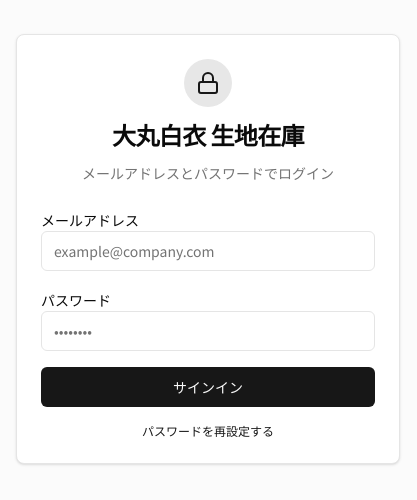
Scenario: LoginForm › Firebase 認証に失敗したらボタンが再び有効になる
The width and height of the screenshot is (417, 500).
Type "test@example.com" into the field labelled "メールアドレス" at (208, 251), box [41,231,375,271]
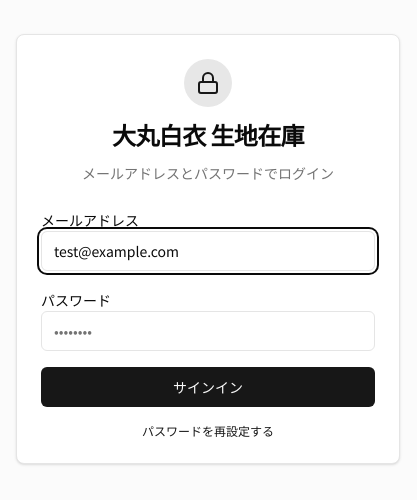
Type "password123" into the password field labelled "パスワード" at (208, 331), box [41,311,375,351]
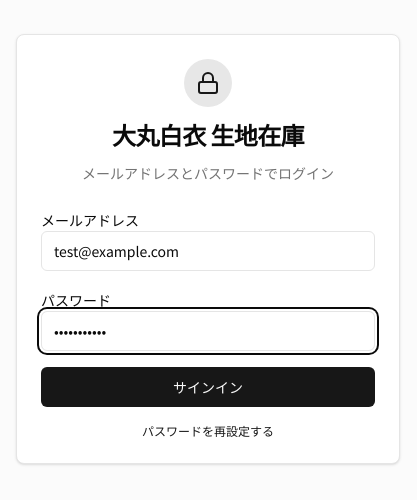
Click the button "サインイン" at (208, 387), box [41,367,375,407]
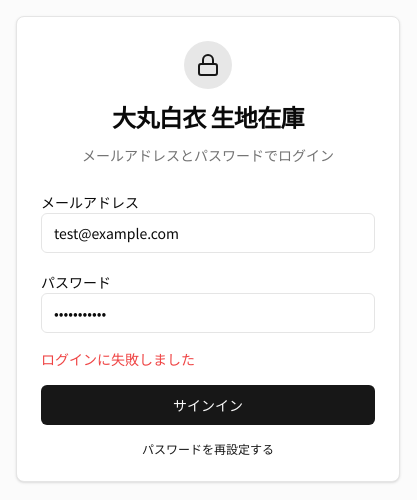
Expected: the button "サインイン" is enabled, [41,385,375,425]
Now the text "ログインに失敗しました" is shown, box [41,349,195,369]
